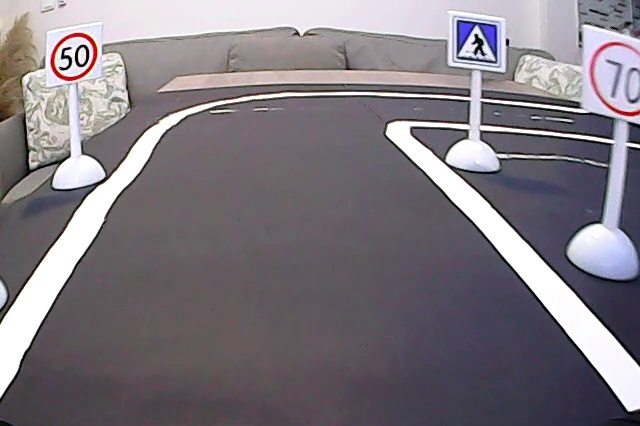pedestrian crossing: (449, 14, 503, 71)
speed limit 50: (50, 31, 101, 82)
speed limit 70: (588, 31, 640, 120)
